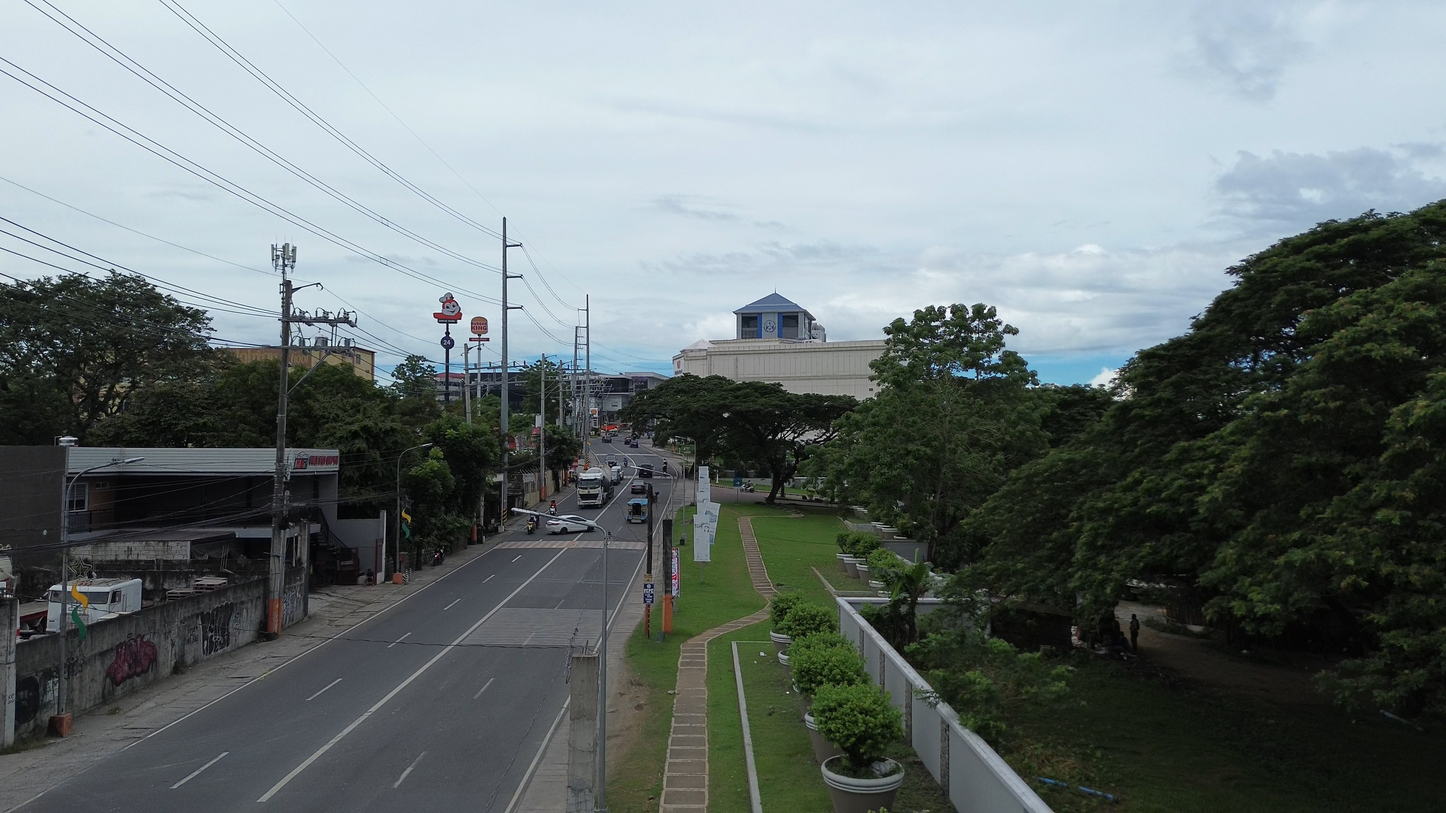car: (630, 481, 646, 493), (601, 435, 611, 443)
motorcycle: (432, 548, 445, 566), (526, 515, 538, 534), (548, 500, 557, 516), (739, 483, 755, 492)
truck: (577, 467, 613, 507)
vehicle: (68, 578, 141, 623), (548, 515, 592, 534), (627, 498, 648, 523), (525, 515, 538, 534), (610, 464, 622, 484), (638, 463, 654, 478), (739, 482, 755, 492), (601, 434, 612, 442)
